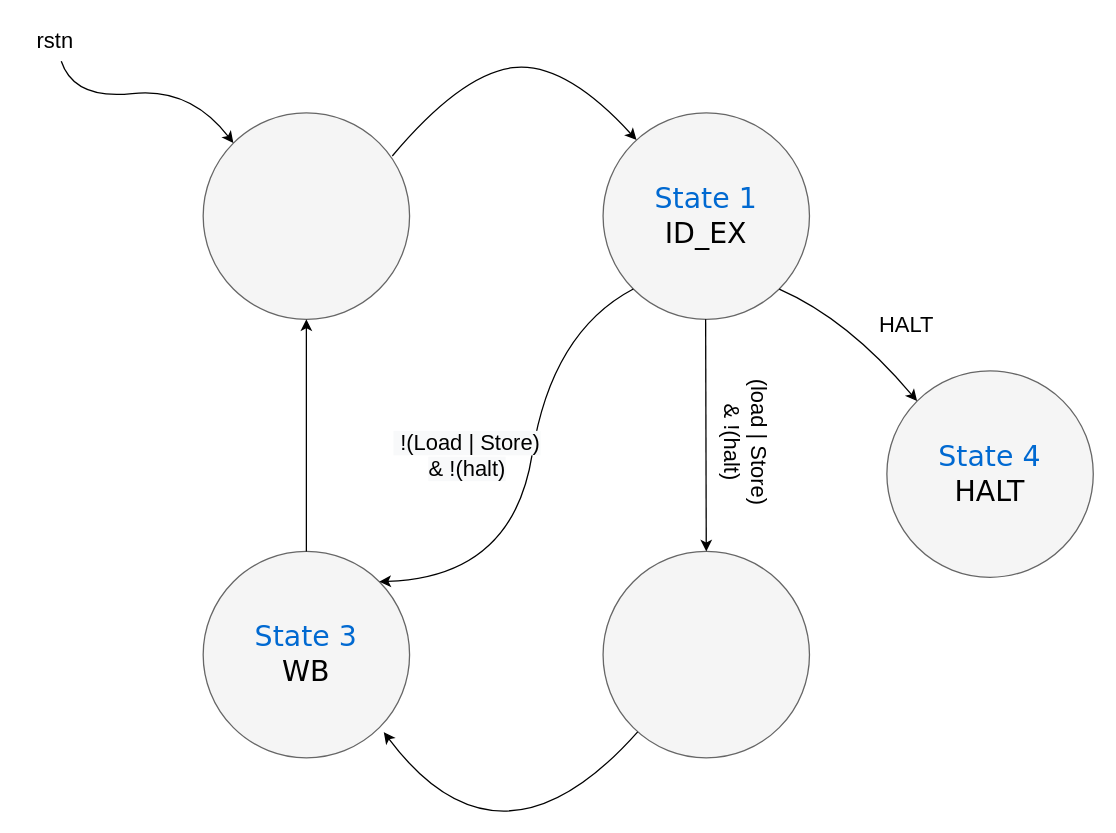
This 1116x833 diagram has some shape labels left out. The centre of each missing label's shape, as x and y in pixels:
"State 0 IF" belongs at (x=306, y=215).
"State 2 MEM" belongs at (x=705, y=654).
